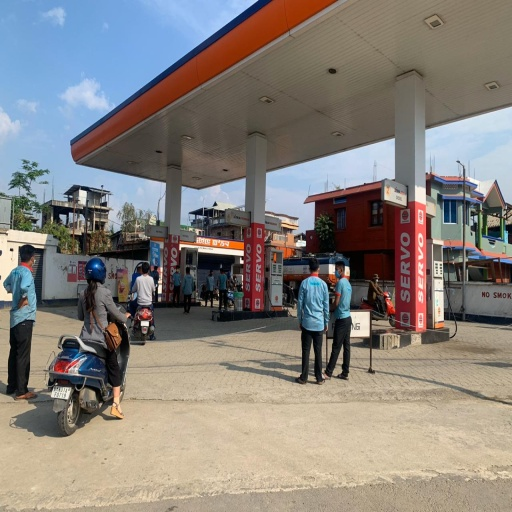roof: (69, 1, 512, 192)
